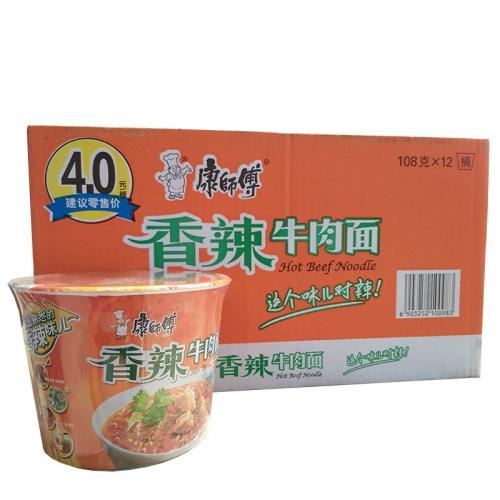xiangla: (7, 273, 233, 471)
